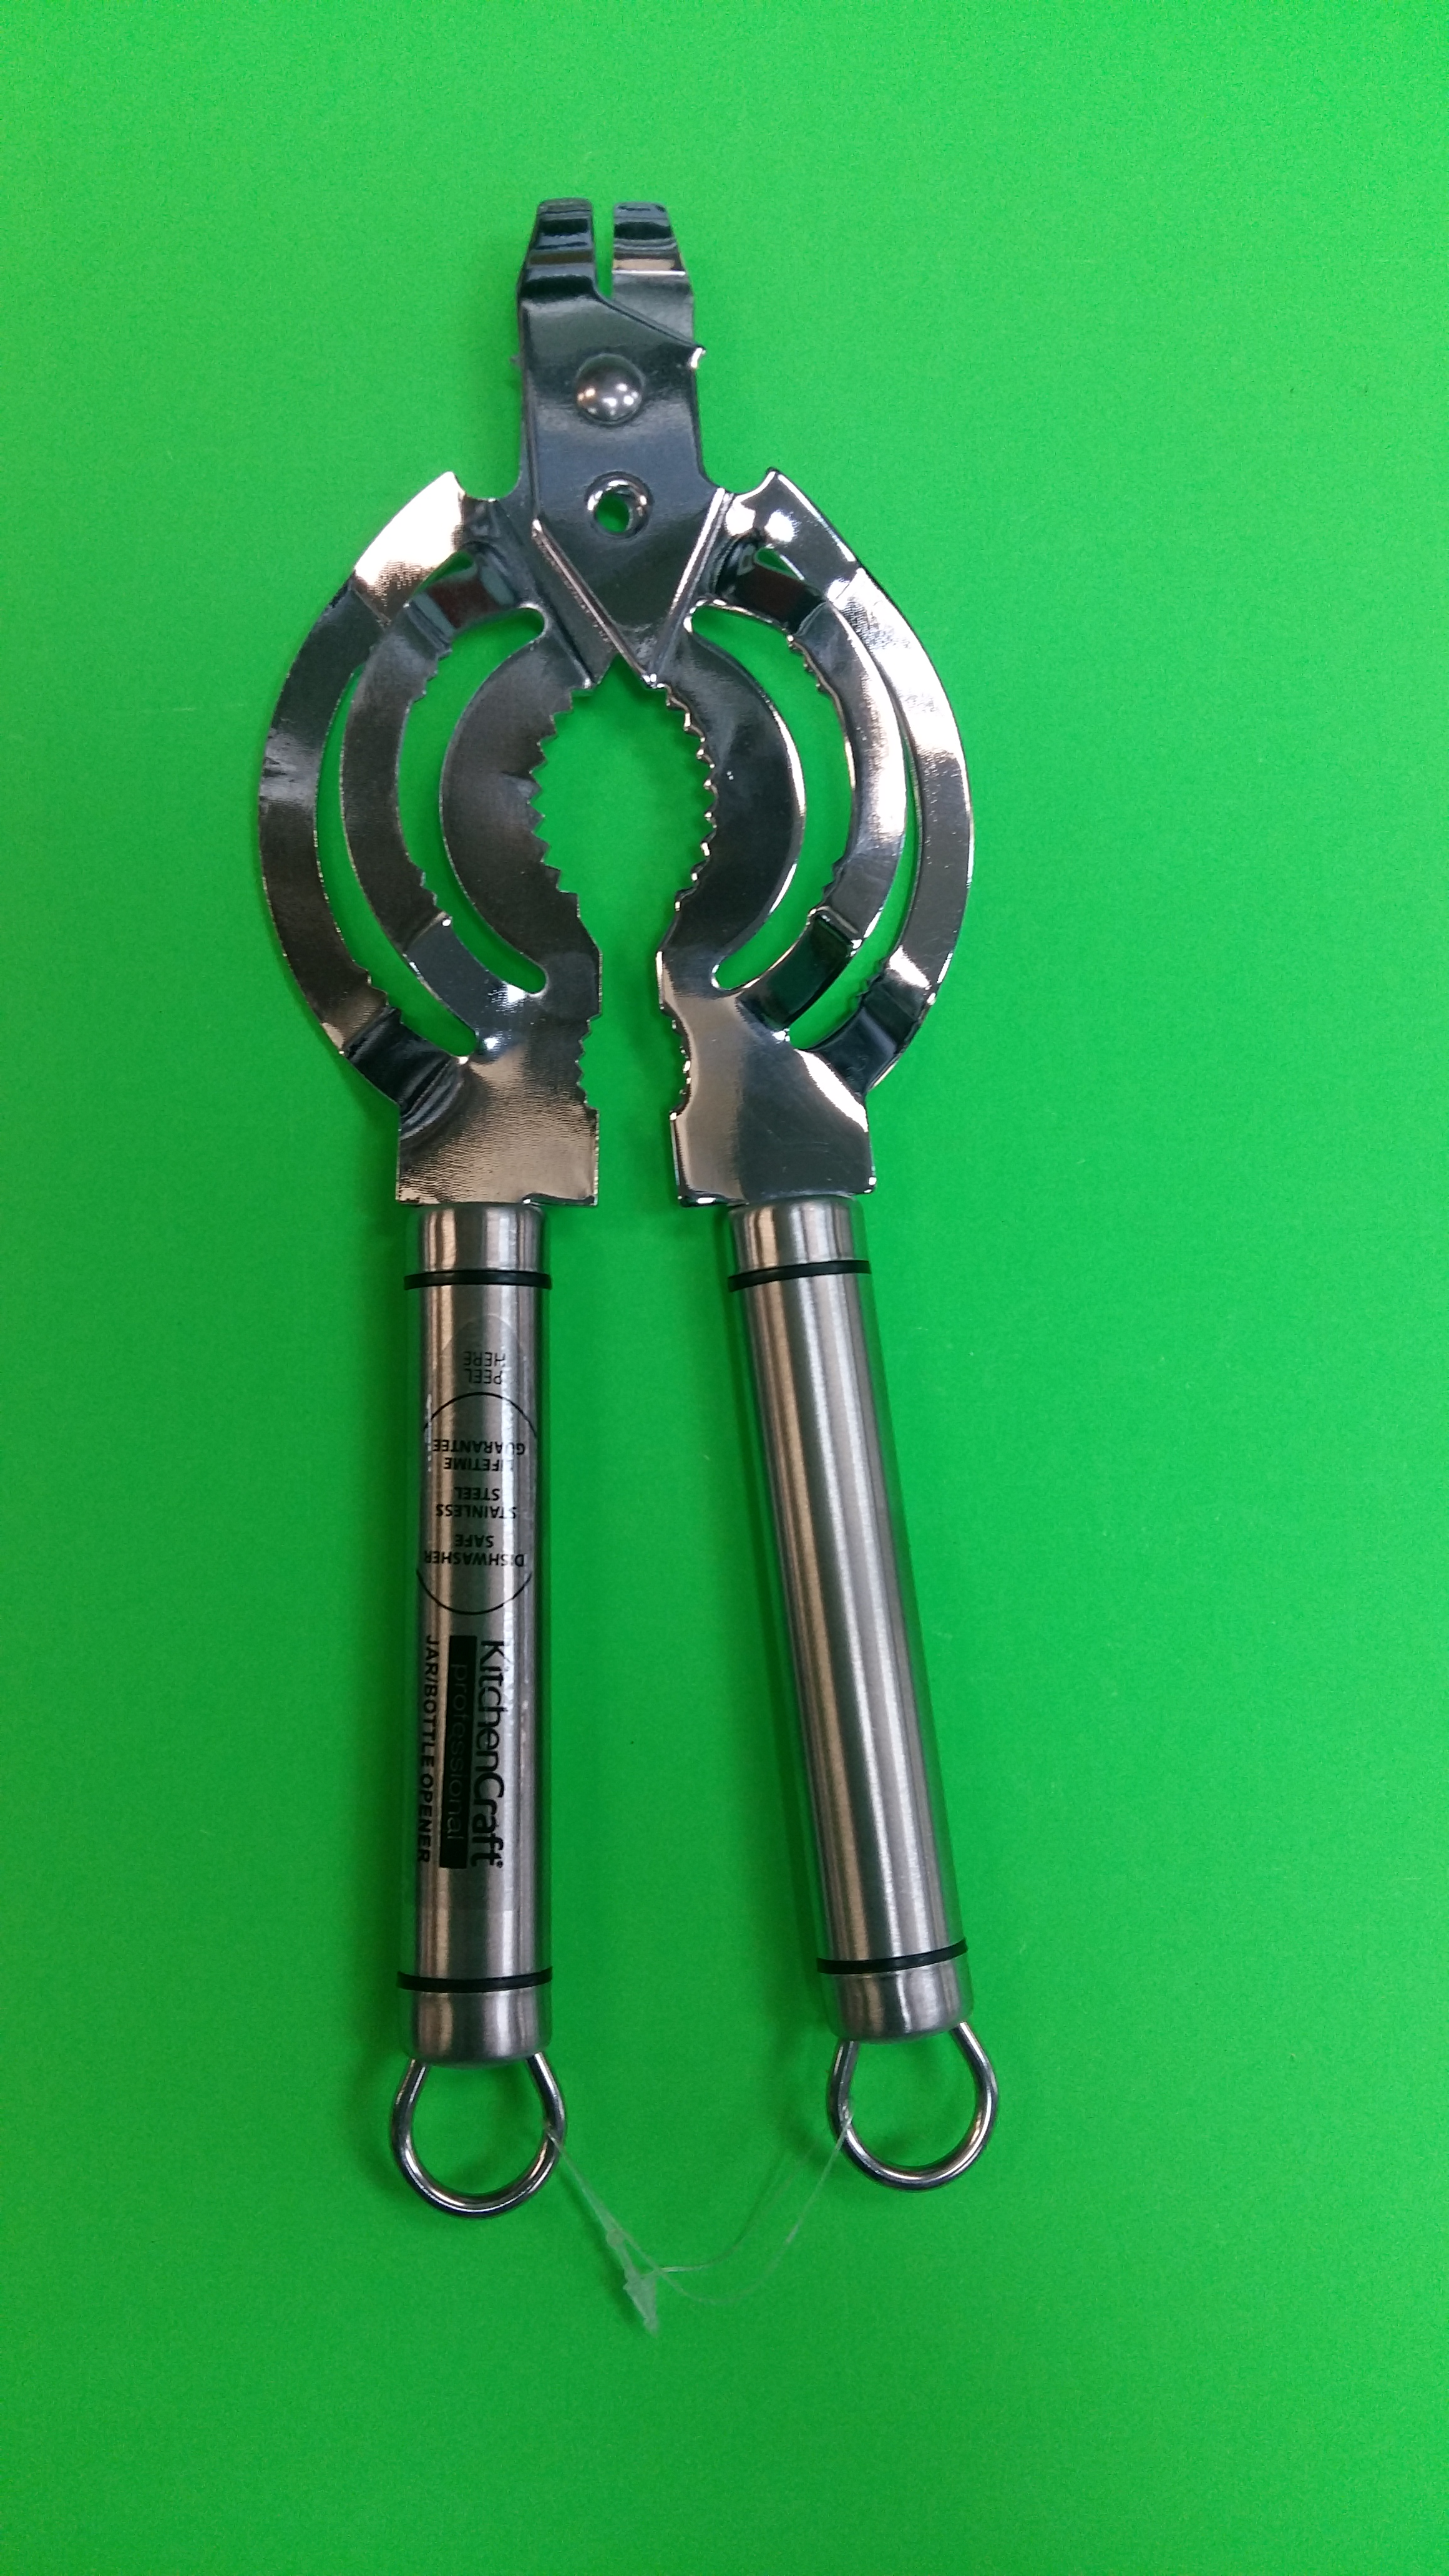bottleopener: (255, 195, 996, 2219)
